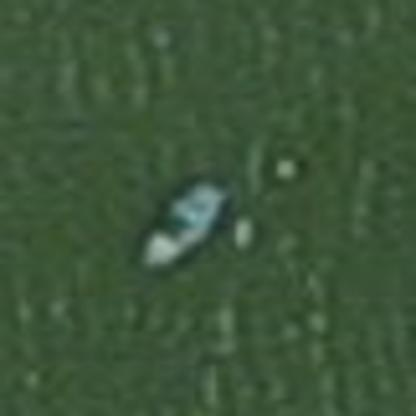ship: (127, 173, 240, 276)
